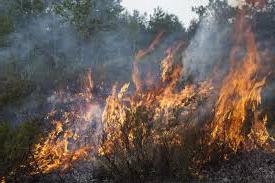fire: (32, 8, 272, 169)
